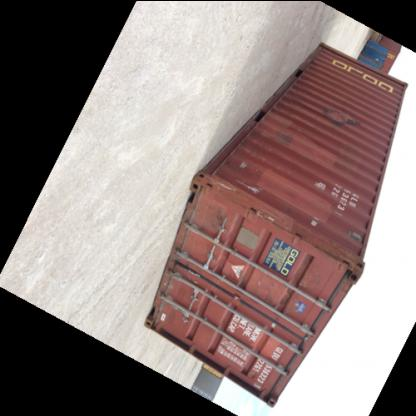Damage: (324, 102, 372, 130), (229, 134, 259, 171), (264, 271, 292, 310), (216, 178, 260, 198), (335, 146, 362, 175), (278, 119, 302, 148), (208, 212, 232, 236), (252, 208, 283, 226), (306, 54, 326, 80), (158, 308, 174, 330), (313, 178, 331, 190), (306, 214, 317, 233)
